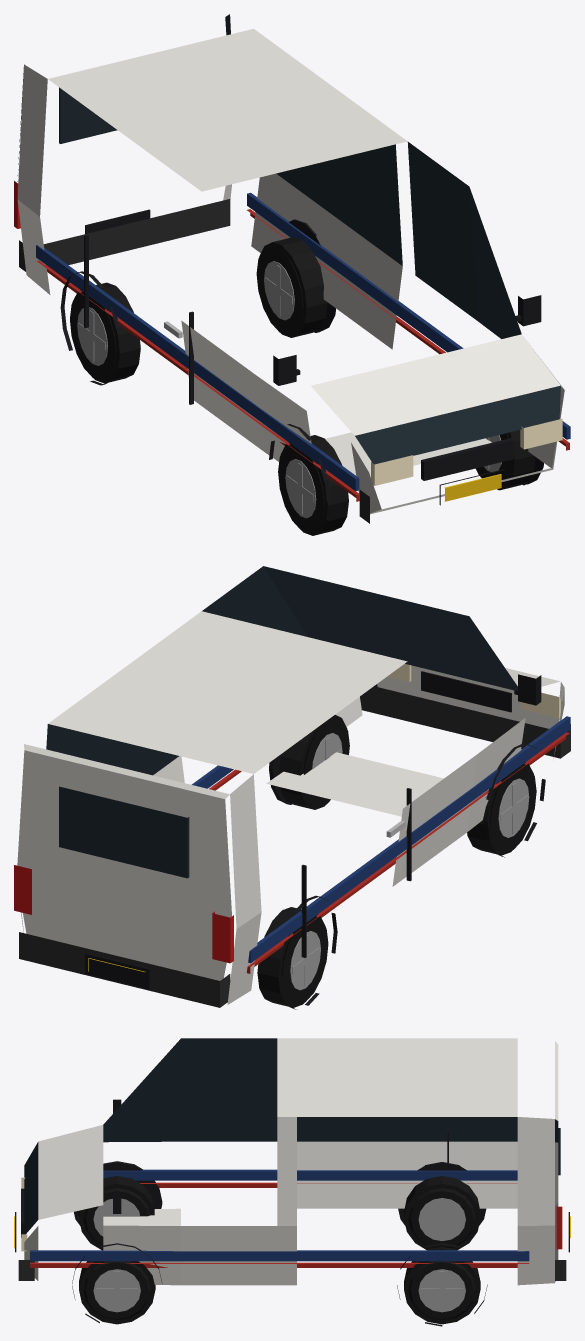
The model's file is micro.glb.
3 renders of one model, top to bottom at view 1: azimuth 30°, elevation 25°; view 2: azimuth 150°, elevation 25°; view 3: azimuth 270°, elevation 25°, orthographic. The views are drawn at different scales.
Parts seen in each view (by area): view 1: body, wheel_rl, wheel_fr, wheel_rr, wheel_fl; view 2: body, wheel_rr, wheel_fr, wheel_fl; view 3: body, wheel_rr, wheel_rl, wheel_fl, wheel_fr.
Boxes of the visible parts, x1,y1,x2,y2 form: body: (14, 14, 570, 533); wheel_rl: (256, 237, 327, 337); wheel_fr: (278, 435, 348, 535); wheel_rr: (70, 282, 140, 383); wheel_fl: (475, 430, 535, 490); body: (14, 566, 570, 1009); wheel_rr: (257, 907, 328, 1007); wheel_fr: (467, 762, 536, 855); wheel_fl: (279, 715, 349, 809); body: (14, 1038, 570, 1326); wheel_rr: (404, 1176, 480, 1249); wheel_rl: (404, 1247, 480, 1324); wheel_fl: (79, 1249, 155, 1324); wheel_fr: (79, 1176, 154, 1249).
Bounding box in the file's own units: 2.04 × 1.97 × 4.8.
